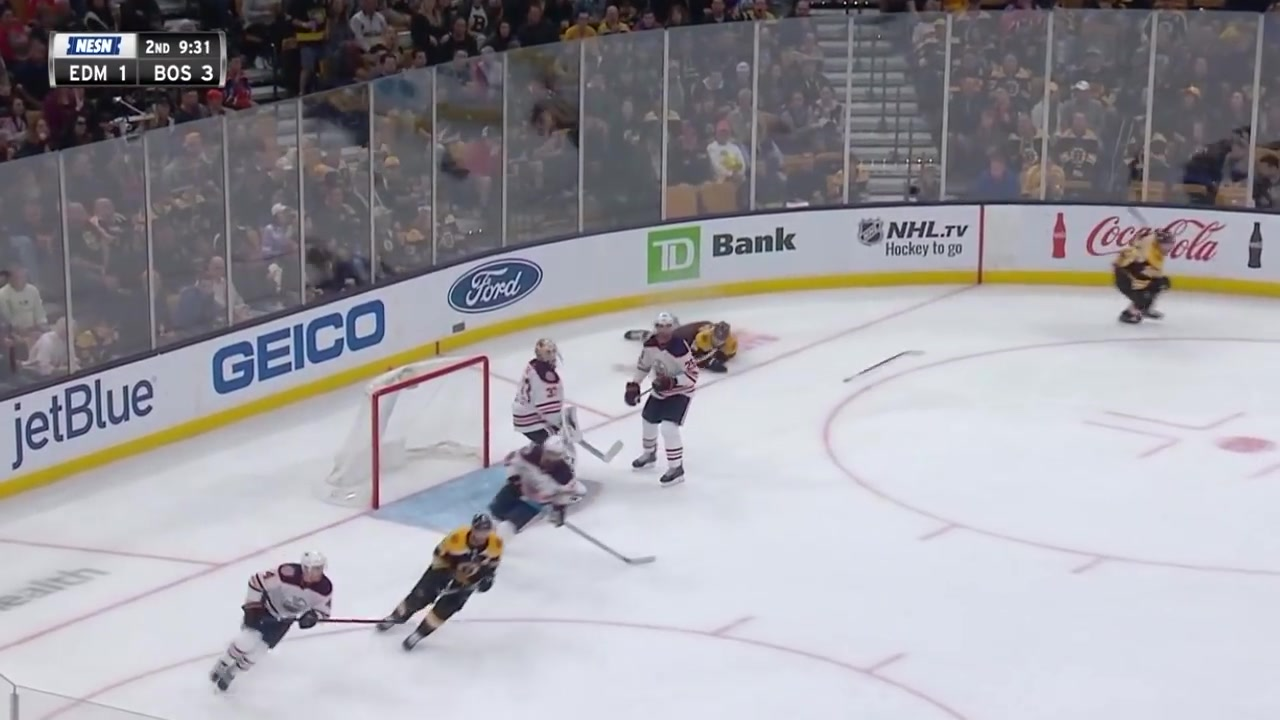Geico: (208, 296, 395, 396)
